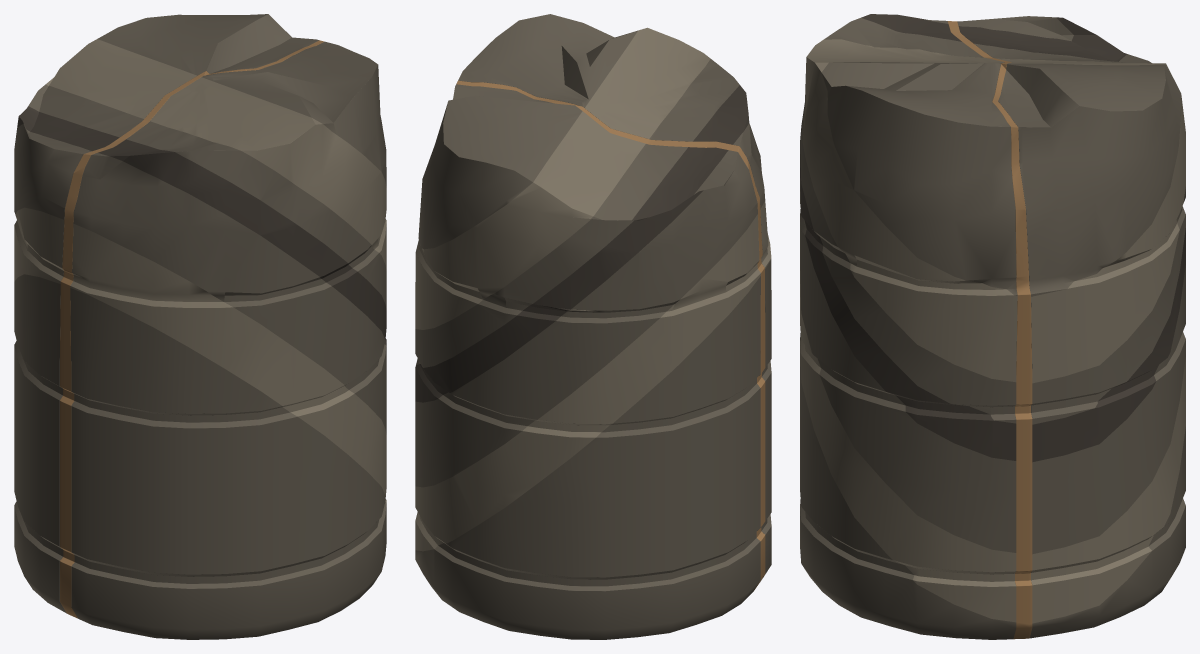
File: bore_plug_lod1.glb
3 renders of one model, left to right at view 1: azimuth 30°, elevation 25°; view 2: azimuth 150°, elevation 25°; view 3: azimuth 270°, elevation 25°, orthographic. The views are drawn at different scales.
Visible parts, largest first — view 1: LOD1_Stone, LOD1_Stone_cut, LOD1_Stone_strata, LOD1_vein; view 2: LOD1_Stone, LOD1_Stone_cut, LOD1_Stone_strata, LOD1_vein; view 3: LOD1_Stone, LOD1_Stone_cut, LOD1_Stone_strata, LOD1_vein.
Boxes of the visible parts, x1,y1,x2,y2 form: LOD1_Stone: [14, 14, 386, 639]; LOD1_Stone_cut: [14, 39, 386, 502]; LOD1_Stone_strata: [17, 106, 386, 345]; LOD1_vein: [60, 40, 324, 618]; LOD1_Stone: [415, 14, 771, 639]; LOD1_Stone_cut: [415, 27, 771, 551]; LOD1_Stone_strata: [415, 85, 749, 402]; LOD1_vein: [456, 80, 765, 591]; LOD1_Stone: [800, 16, 1185, 639]; LOD1_Stone_cut: [800, 39, 1185, 623]; LOD1_Stone_strata: [800, 14, 1185, 462]; LOD1_vein: [947, 21, 1032, 639].
Bounding box in the file's own units: 1.66 × 2.5 × 1.66.
